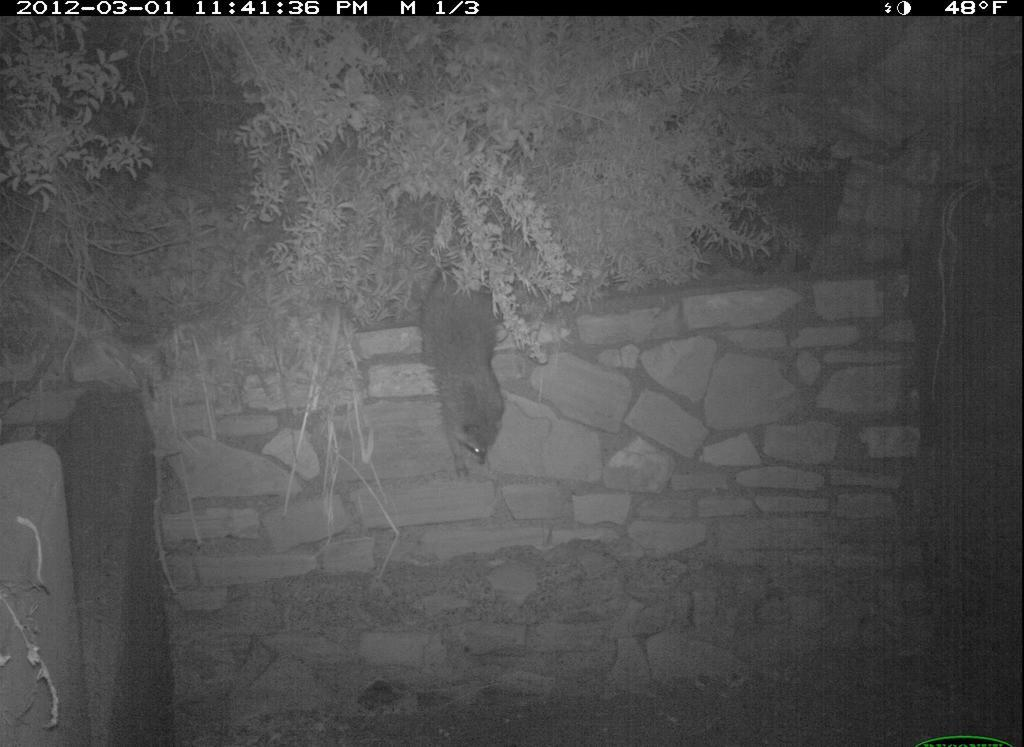raccoon: (417, 253, 516, 492)
